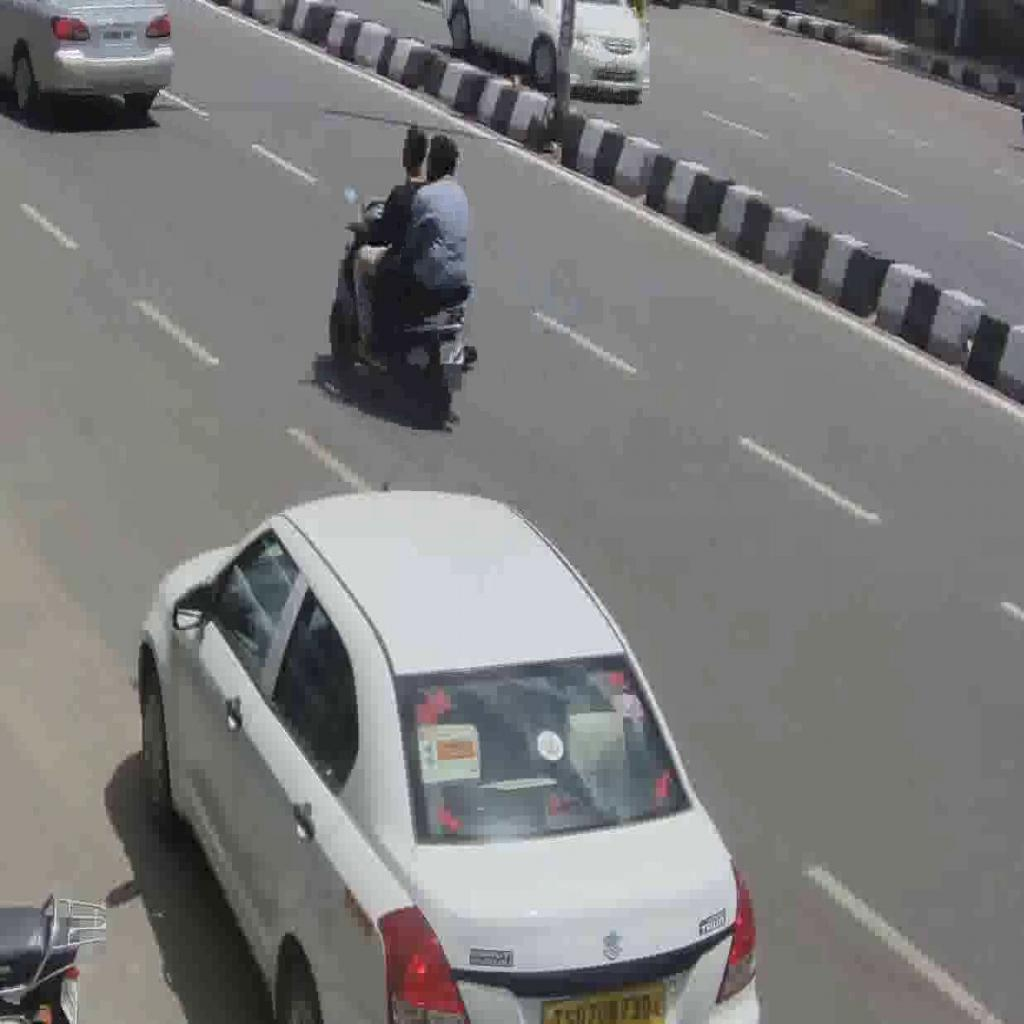bike: (328, 197, 478, 409)
lisc: (439, 338, 464, 364)
no_helmet: (398, 122, 429, 182), (426, 134, 461, 185)
rider: (372, 133, 470, 357), (344, 122, 428, 352)
